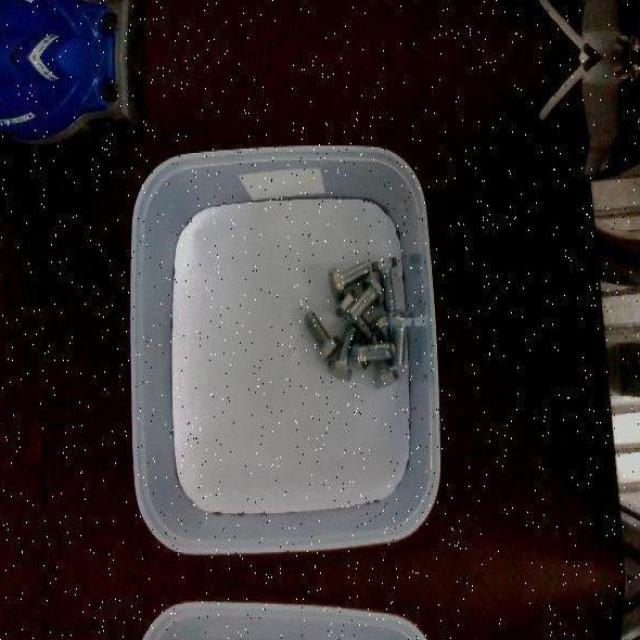screw: (304, 309, 340, 361), (346, 276, 384, 322), (329, 262, 371, 300), (351, 337, 395, 372), (372, 256, 397, 311)
